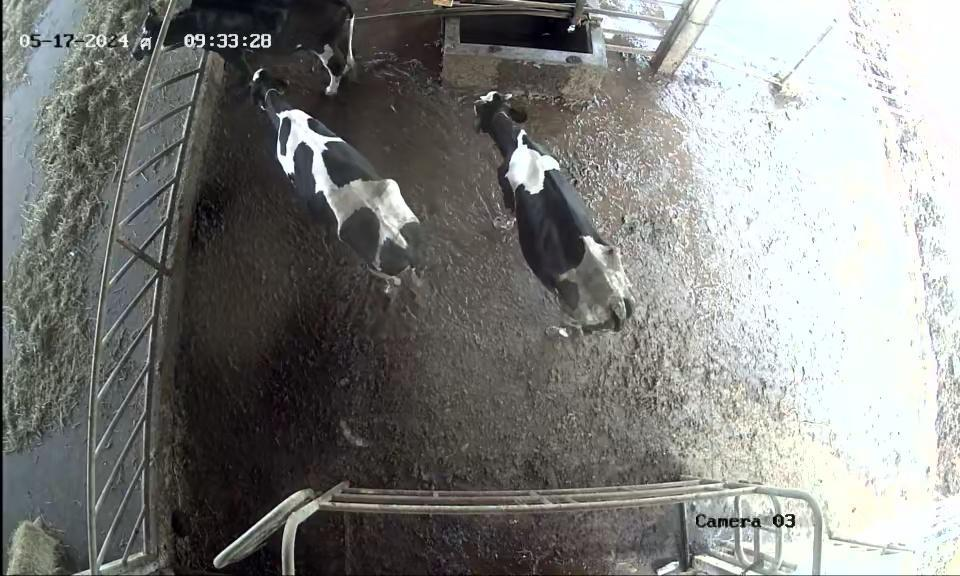eat: (102, 3, 222, 71)
stand: (461, 79, 645, 351), (239, 63, 436, 305)
